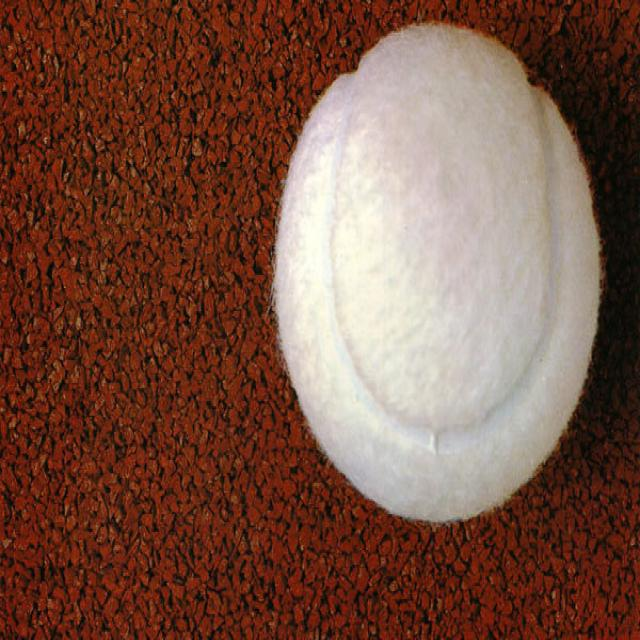Tennis Ball: (272, 21, 602, 524)
